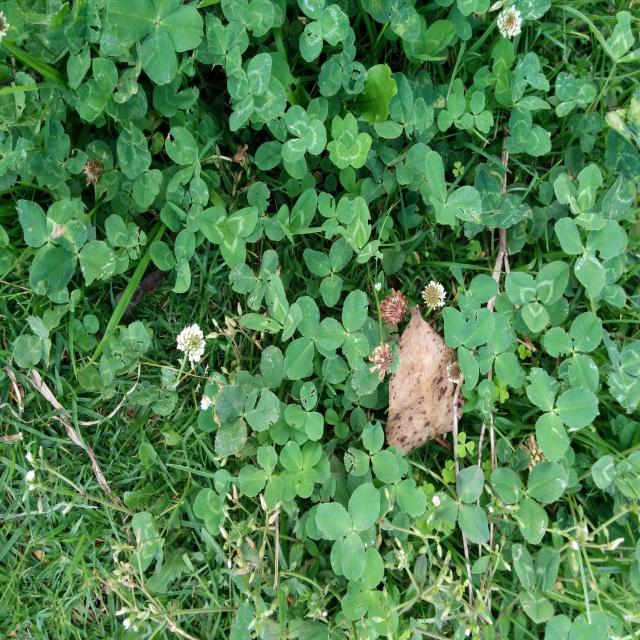Four Leaf Clover: (227, 52, 286, 132), (278, 440, 322, 501)
